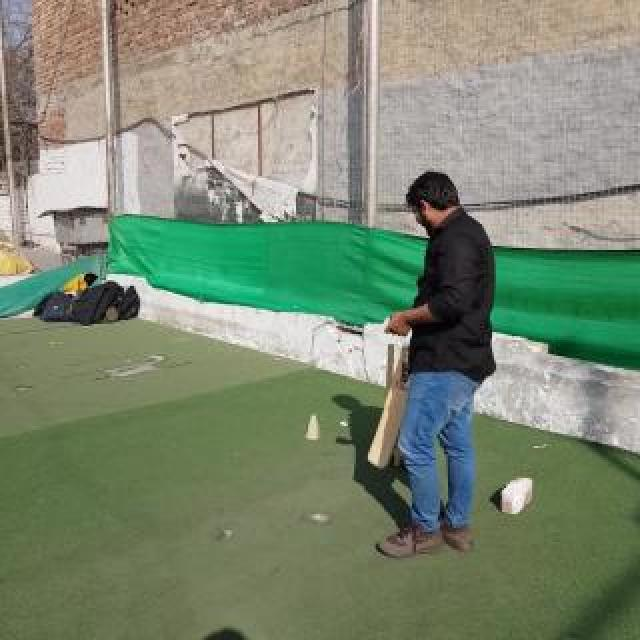bat: (368, 356, 412, 468)
